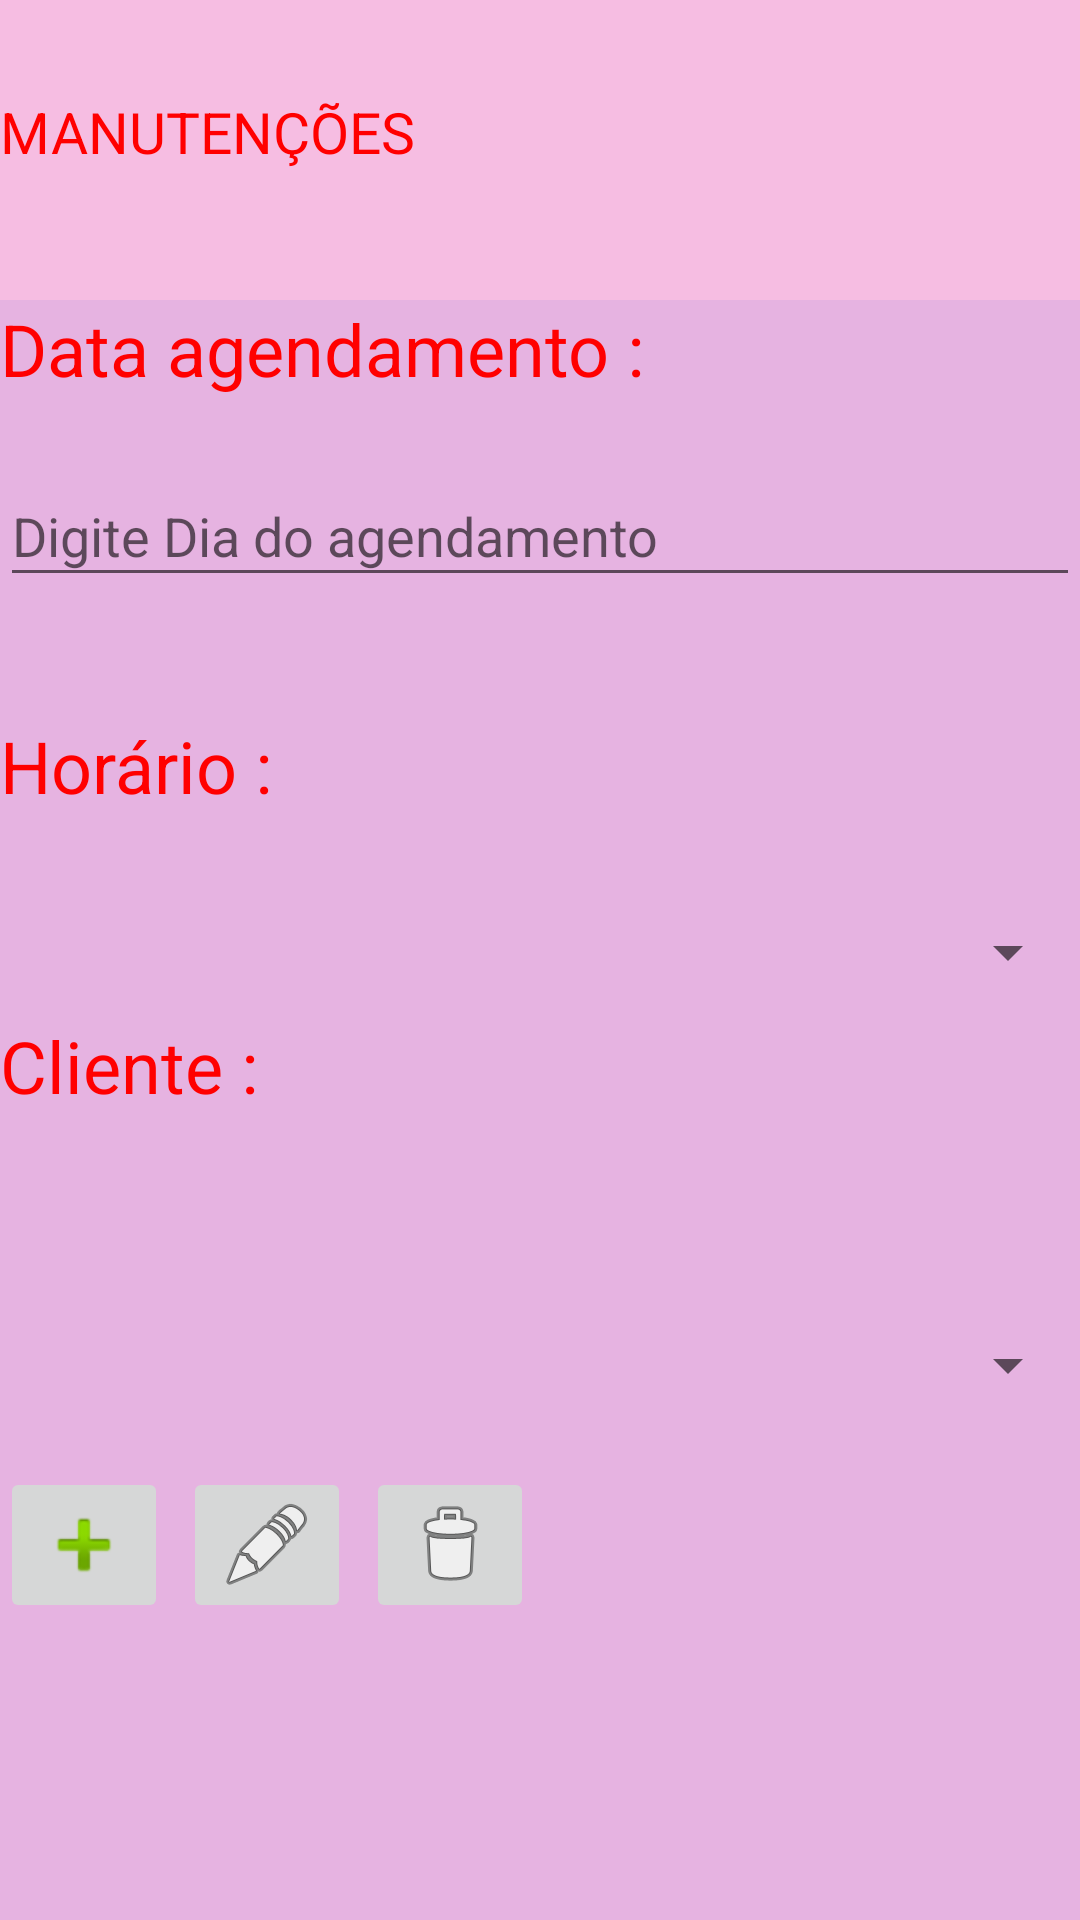

Locate icon controls on the screen. Image size 1080w x 1920h, boxes as BBox(x1, y1, x2, y2).
add: BBox(12, 1485, 156, 1605)
delete: BBox(378, 1485, 522, 1605)
edit: BBox(195, 1485, 339, 1605)
